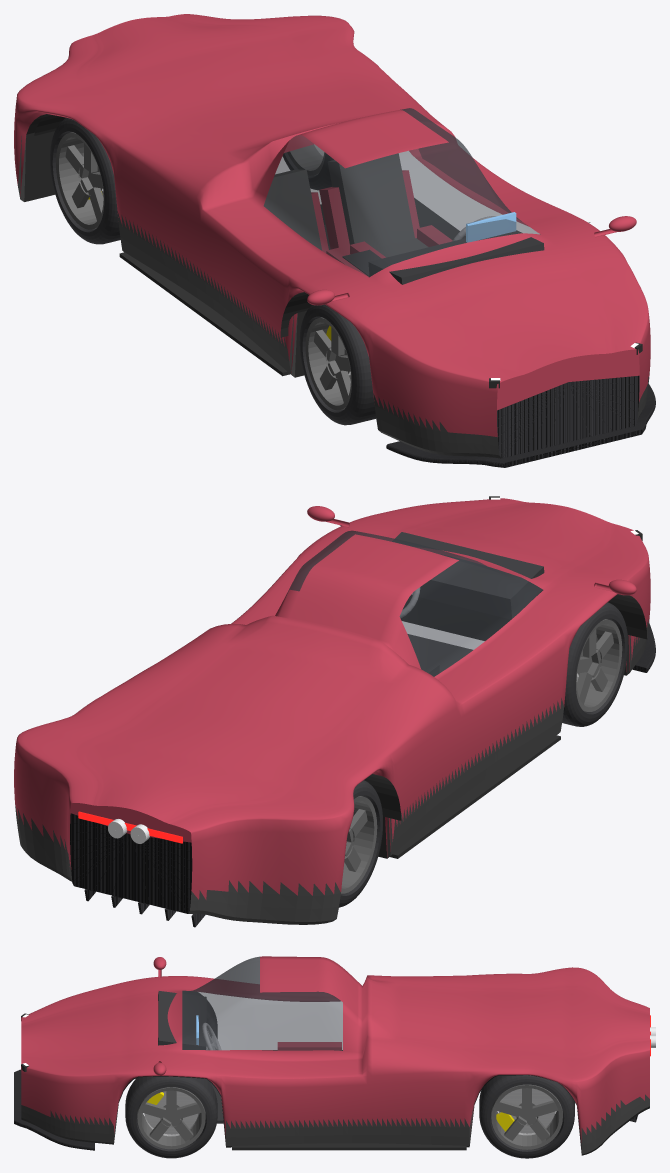
Rendered from ferrari-daytona-sp3.glb.
The picture shows the model from 3 angles, top to bottom: view 1: azimuth 30°, elevation 25°; view 2: azimuth 150°, elevation 25°; view 3: azimuth 270°, elevation 25°; orthographic projection. The views are drawn at different scales.
Parts seen in each view (by area): view 1: Body_PrimaryPaint, Glass_Windows, Carbon_Exterior, Body_SecondaryPaint, Interior_Seats, WheelWells, Tire_FR, Rim_RR, Interior_SeatBolsters, Rim_FR, Tire_RR, Interior_Dashboard (+3 smaller); view 2: Body_PrimaryPaint, Body_SecondaryPaint, Glass_Windows, Carbon_Exterior, Interior_Dashboard, WheelWells, Rim_FR, Underbody, Tire_FR, Rim_RR, Tire_RR, Interior_Tub; view 3: Body_PrimaryPaint, Glass_Windows, Body_SecondaryPaint, Tire_FL, Tire_RL, Rim_RL, Rim_FL, Interior_Dashboard, WheelWells, Carbon_Exterior, BrakeDisc_RL, Underbody (+4 smaller).
Part boxes in pixels (bbox=[...]): Body_PrimaryPaint: bbox=[14, 14, 650, 437]; Glass_Windows: bbox=[264, 108, 540, 277]; Carbon_Exterior: bbox=[386, 375, 655, 467]; Body_SecondaryPaint: bbox=[18, 136, 649, 458]; Interior_Seats: bbox=[264, 153, 427, 257]; WheelWells: bbox=[34, 114, 590, 376]; Tire_FR: bbox=[299, 304, 376, 425]; Rim_RR: bbox=[56, 132, 104, 229]; Interior_SeatBolsters: bbox=[311, 170, 452, 276]; Rim_FR: bbox=[305, 317, 351, 410]; Tire_RR: bbox=[50, 117, 120, 244]; Interior_Dashboard: bbox=[368, 230, 544, 284]; Body_PrimaryPaint: bbox=[14, 498, 650, 899]; Body_SecondaryPaint: bbox=[15, 616, 649, 924]; Glass_Windows: bbox=[282, 530, 542, 676]; Carbon_Exterior: bbox=[70, 623, 655, 927]; Interior_Dashboard: bbox=[392, 532, 544, 619]; WheelWells: bbox=[340, 525, 647, 858]; Rim_FR: bbox=[576, 619, 622, 711]; Underbody: bbox=[24, 590, 626, 883]; Tire_FR: bbox=[562, 602, 628, 726]; Rim_RR: bbox=[341, 796, 377, 893]; Tire_RR: bbox=[339, 780, 382, 907]; Interior_Tub: bbox=[407, 634, 472, 672]; Body_PrimaryPaint: bbox=[21, 956, 649, 1142]; Glass_Windows: bbox=[182, 956, 342, 1050]; Body_SecondaryPaint: bbox=[21, 1094, 649, 1154]; Tire_FL: bbox=[125, 1076, 217, 1158]; Tire_RL: bbox=[479, 1075, 574, 1158]; Rim_RL: bbox=[491, 1084, 562, 1149]; Rim_FL: bbox=[137, 1087, 205, 1149]; Interior_Dashboard: bbox=[158, 991, 206, 1049]; WheelWells: bbox=[232, 1050, 466, 1150]; Carbon_Exterior: bbox=[14, 1069, 637, 1150]; BrakeDisc_RL: bbox=[498, 1088, 555, 1135]; Underbody: bbox=[21, 1075, 649, 1155].
Size of the model in its own units: 2.06 by 1.14 by 4.79.
17 materials, 2 textured.
